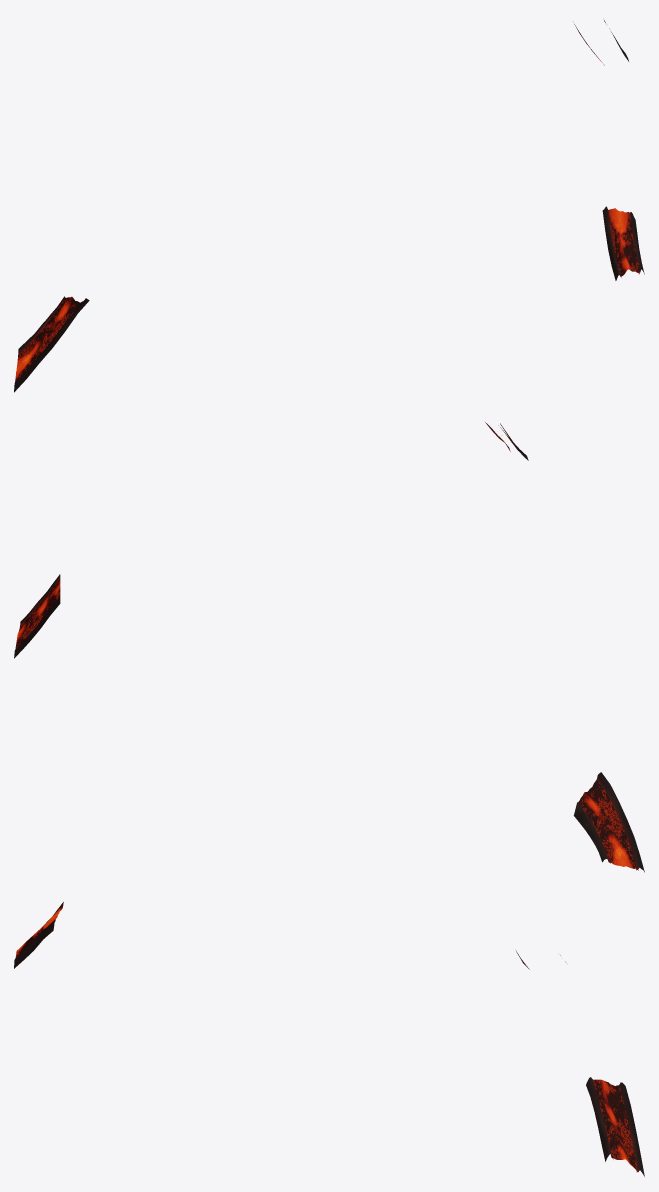
File: lava_seg_7.glb
3 views of the same model, one above another, from view 1: azimuth 30°, elevation 25°; view 2: azimuth 150°, elevation 25°; view 3: azimuth 270°, elevation 25° (orthographic). The views are drawn at different scales.
Visible parts, largest first — view 1: seg; view 2: seg; view 3: seg.
Boxes of the visible parts, x1,y1,x2,y2 form: seg: (14, 20, 644, 392); seg: (14, 422, 644, 872); seg: (14, 902, 644, 1176).
Size of the model in its own units: 91.63 by 33.73 by 71.8.
